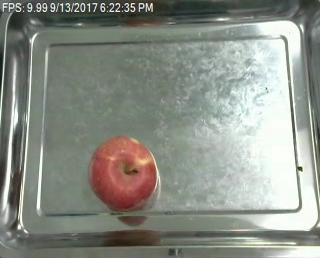Apple: (86, 135, 161, 211)
